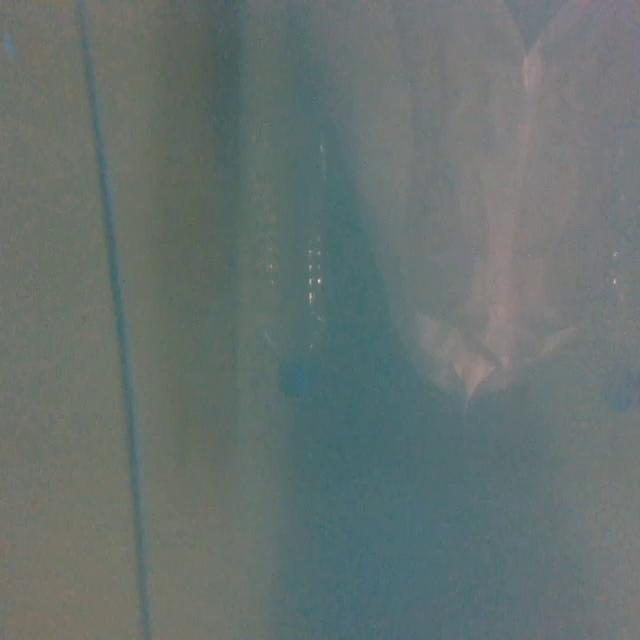plastic bags: (317, 0, 640, 413)
plastic bottle: (251, 127, 336, 405)
